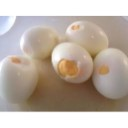begg: (1, 58, 39, 101), (96, 48, 128, 97), (55, 44, 92, 80)
